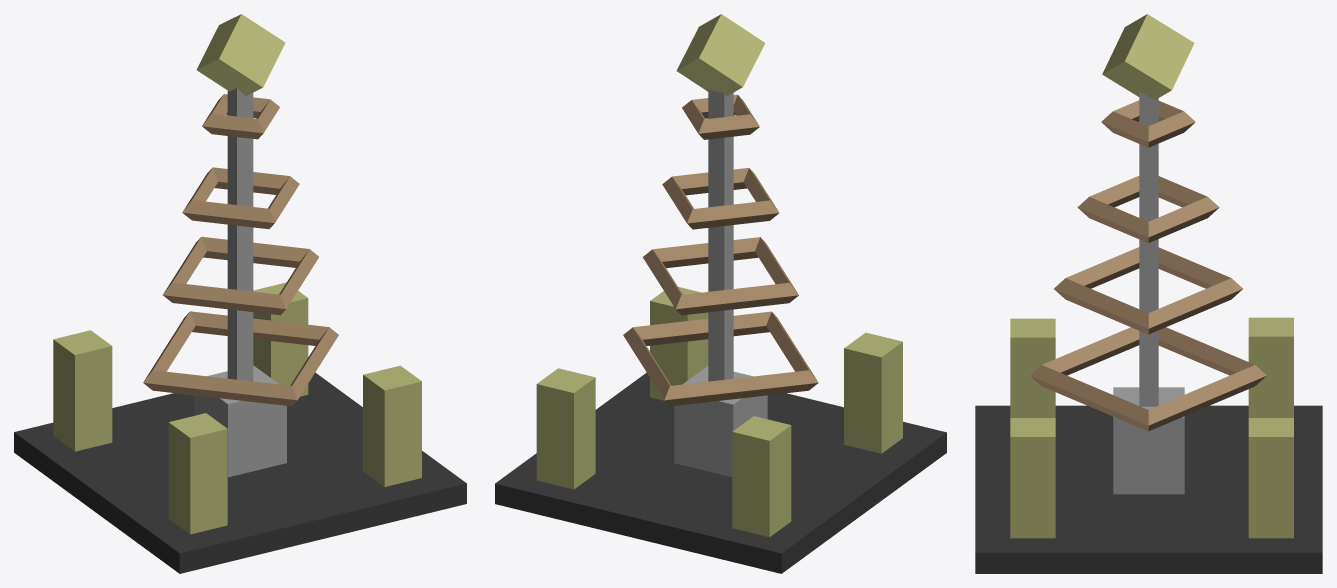
The model's file is LabCoil.fbx.
3 views of the same model, side by side, from view 1: azimuth 30°, elevation 25°; view 2: azimuth 150°, elevation 25°; view 3: azimuth 270°, elevation 25° (orthographic). The views are drawn at different scales.
Visible parts, largest first — view 1: pCube135, pTorus2, pCube142, pCube139, pCube141, pCube136, pTorus3, pCube137, pCube138, pTorus4, pCube140, pTorus1; view 2: pCube135, pTorus2, pCube140, pCube139, pCube142, pCube136, pTorus3, pCube137, pCube138, pTorus4, pCube141, pTorus1; view 3: pCube135, pTorus2, pTorus3, pCube137, pCube141, pCube140, pCube136, pCube138, pTorus4, pCube139, pCube142, pTorus1.
Part boxes in pixels (left/top/right/bottom): pCube135: left=14, top=372, right=466, bottom=573; pTorus2: left=143, top=311, right=338, bottom=406; pCube142: left=168, top=413, right=227, bottom=534; pCube139: left=53, top=330, right=112, bottom=451; pCube141: left=363, top=365, right=421, bottom=486; pCube136: left=227, top=88, right=253, bottom=381; pTorus3: left=163, top=236, right=318, bottom=315; pCube137: left=194, top=365, right=286, bottom=477; pCube138: left=196, top=14, right=285, bottom=96; pTorus4: left=182, top=167, right=299, bottom=229; pCube140: left=253, top=282, right=308, bottom=396; pTorus1: left=202, top=94, right=279, bottom=139; pCube135: left=495, top=372, right=946, bottom=573; pTorus2: left=623, top=311, right=818, bottom=406; pCube140: left=536, top=368, right=595, bottom=489; pCube139: left=732, top=416, right=791, bottom=537; pCube142: left=844, top=332, right=902, bottom=453; pCube136: left=708, top=89, right=733, bottom=381; pTorus3: left=643, top=237, right=798, bottom=315; pCube137: left=674, top=366, right=767, bottom=477; pCube138: left=676, top=14, right=765, bottom=96; pTorus4: left=662, top=168, right=779, bottom=229; pCube141: left=650, top=287, right=708, bottom=400; pTorus1: left=682, top=94, right=759, bottom=139; pCube135: left=975, top=405, right=1322, bottom=573; pTorus2: left=1030, top=327, right=1266, bottom=431; pTorus3: left=1054, top=247, right=1242, bottom=334; pCube137: left=1113, top=387, right=1184, bottom=494; pCube141: left=1010, top=418, right=1055, bottom=538; pCube140: left=1248, top=418, right=1293, bottom=538; pCube136: left=1139, top=91, right=1158, bottom=406; pCube138: left=1102, top=14, right=1194, bottom=100; pTorus4: left=1077, top=176, right=1219, bottom=242; pCube139: left=1248, top=317, right=1293, bottom=417; pCube142: left=1010, top=318, right=1055, bottom=417; pTorus1: left=1101, top=100, right=1195, bottom=147.
Size of the model in its own units: 9.31 by 14.4 by 9.31.
